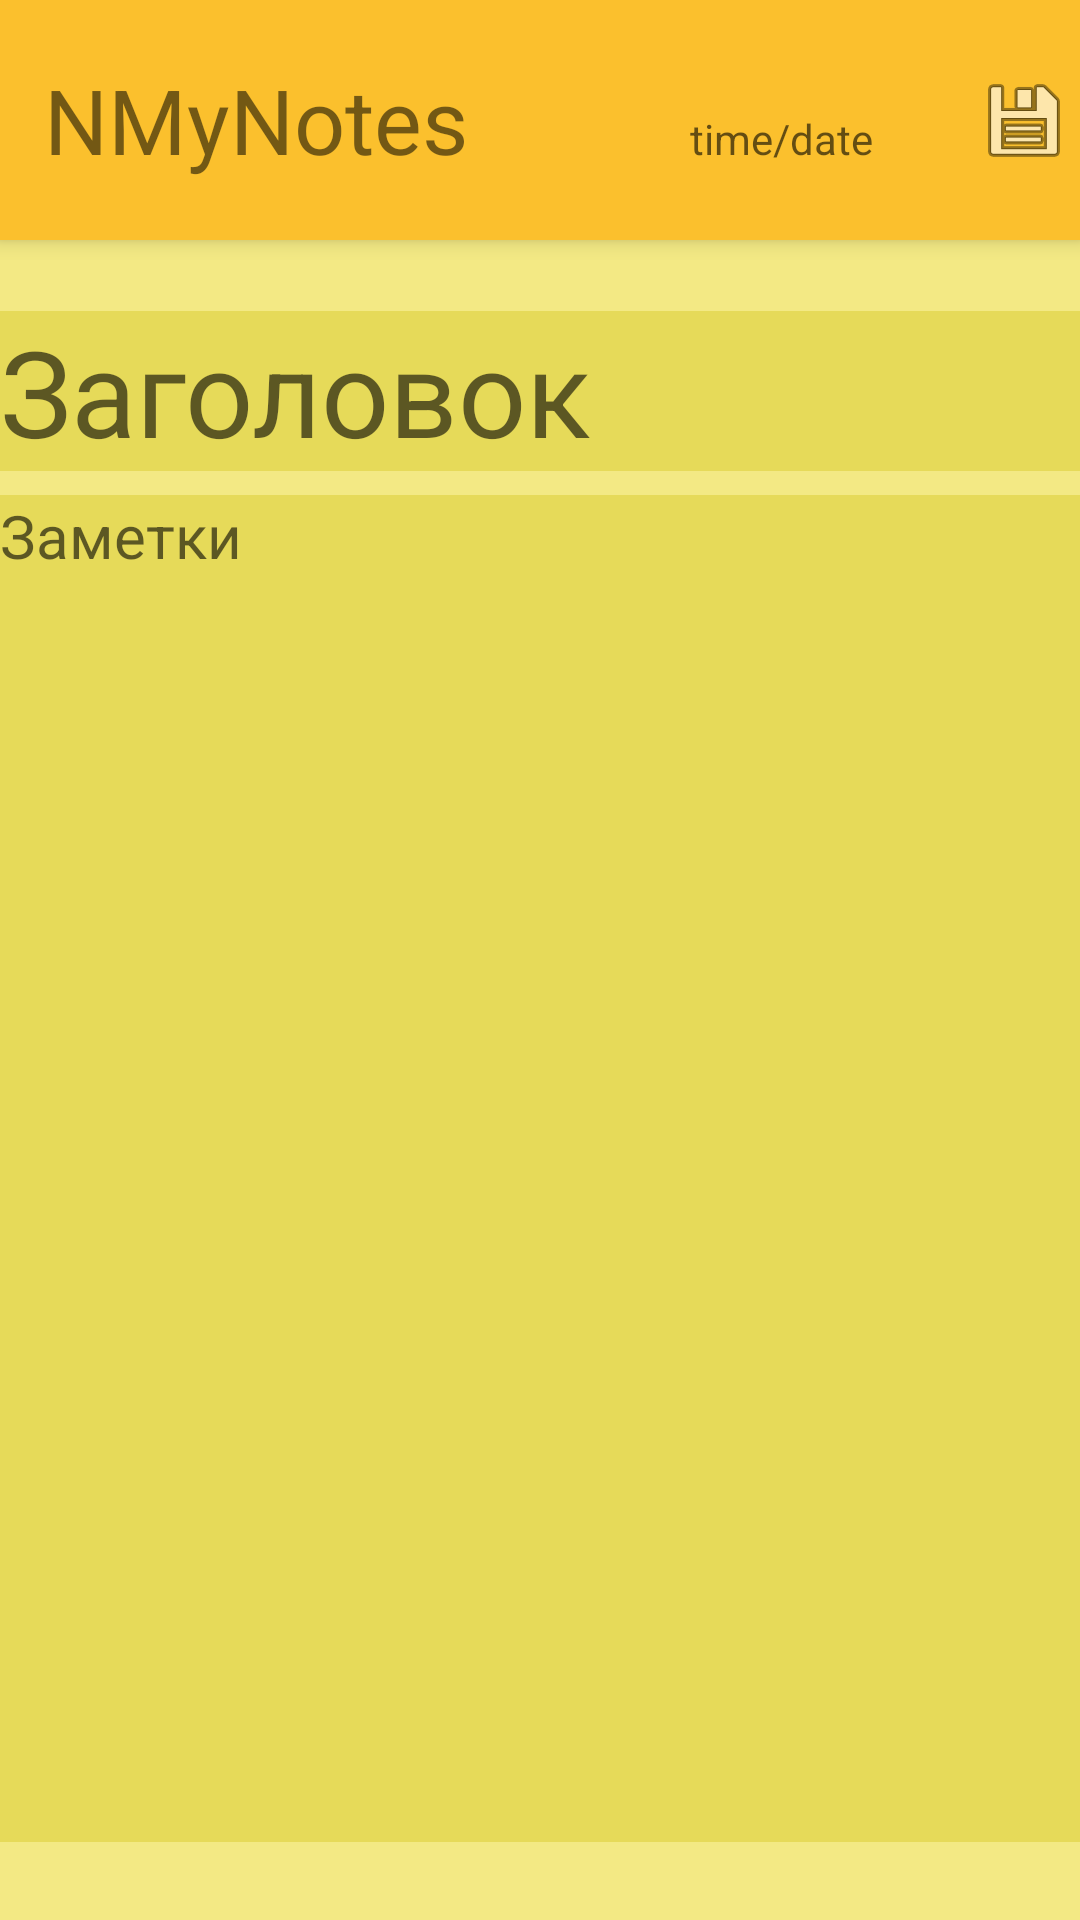

Icon click points for this 1080 x 1920 phone screenshot, format [x,y]:
save: [1024,120]
